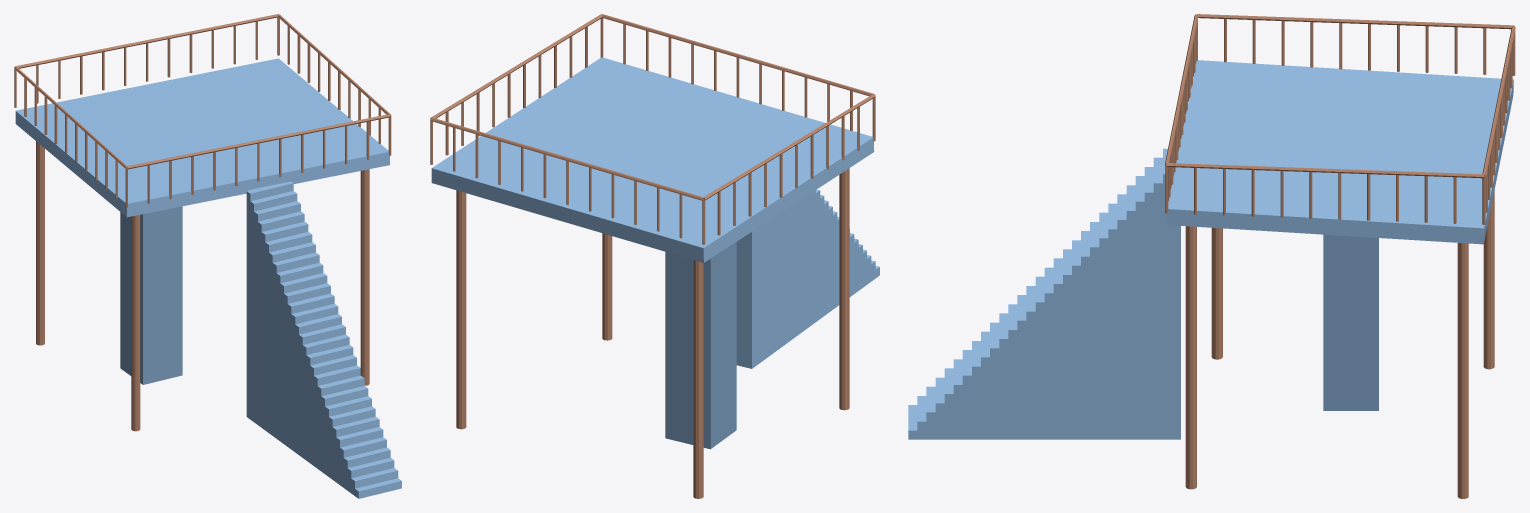
Rendered from folie_tag_147.glb.
The picture shows the model from 3 angles, left to right: view 1: azimuth 30°, elevation 25°; view 2: azimuth 150°, elevation 25°; view 3: azimuth 270°, elevation 25°; orthographic projection. The views are drawn at different scales.
Parts seen in each view (by area): view 1: folie_tag_147_00_plate, folie_tag_147_stairs, folie_tag_147_line, folie_tag_147_core; view 2: folie_tag_147_00_plate, folie_tag_147_line, folie_tag_147_stairs, folie_tag_147_core; view 3: folie_tag_147_00_plate, folie_tag_147_stairs, folie_tag_147_line, folie_tag_147_core.
Boxes of the visible parts, left/top/right/bottom form: folie_tag_147_00_plate: left=15, top=58, right=389, bottom=217; folie_tag_147_stairs: left=246, top=181, right=401, bottom=498; folie_tag_147_line: left=14, top=14, right=391, bottom=431; folie_tag_147_core: left=120, top=206, right=182, bottom=384; folie_tag_147_00_plate: left=431, top=57, right=874, bottom=262; folie_tag_147_line: left=430, top=14, right=875, bottom=498; folie_tag_147_stairs: left=736, top=189, right=879, bottom=368; folie_tag_147_core: left=665, top=242, right=736, bottom=449; folie_tag_147_00_plate: left=1166, top=60, right=1513, bottom=244; folie_tag_147_stairs: left=908, top=139, right=1180, bottom=439; folie_tag_147_line: left=1165, top=14, right=1515, bottom=498; folie_tag_147_core: left=1323, top=234, right=1378, bottom=410.
Size of the model in its own units: 7.58 by 7.26 by 12.02.
